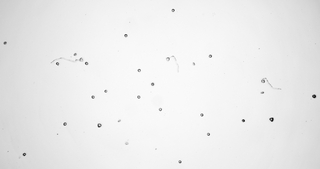germinated: (259, 75, 269, 84), (164, 54, 174, 61), (73, 57, 83, 64)
nongerminated: (267, 115, 275, 123), (135, 93, 142, 101), (95, 121, 103, 128), (20, 150, 28, 157), (310, 92, 317, 99), (198, 111, 205, 117), (170, 6, 176, 13), (177, 158, 183, 165), (156, 106, 163, 112), (136, 66, 142, 73), (122, 32, 128, 39), (89, 93, 95, 100), (61, 120, 68, 126), (259, 90, 265, 96), (240, 117, 246, 123), (207, 53, 213, 59), (205, 131, 211, 137), (149, 81, 155, 87), (71, 51, 77, 57), (54, 60, 60, 66), (2, 40, 8, 46), (103, 88, 108, 94), (83, 61, 89, 65)
